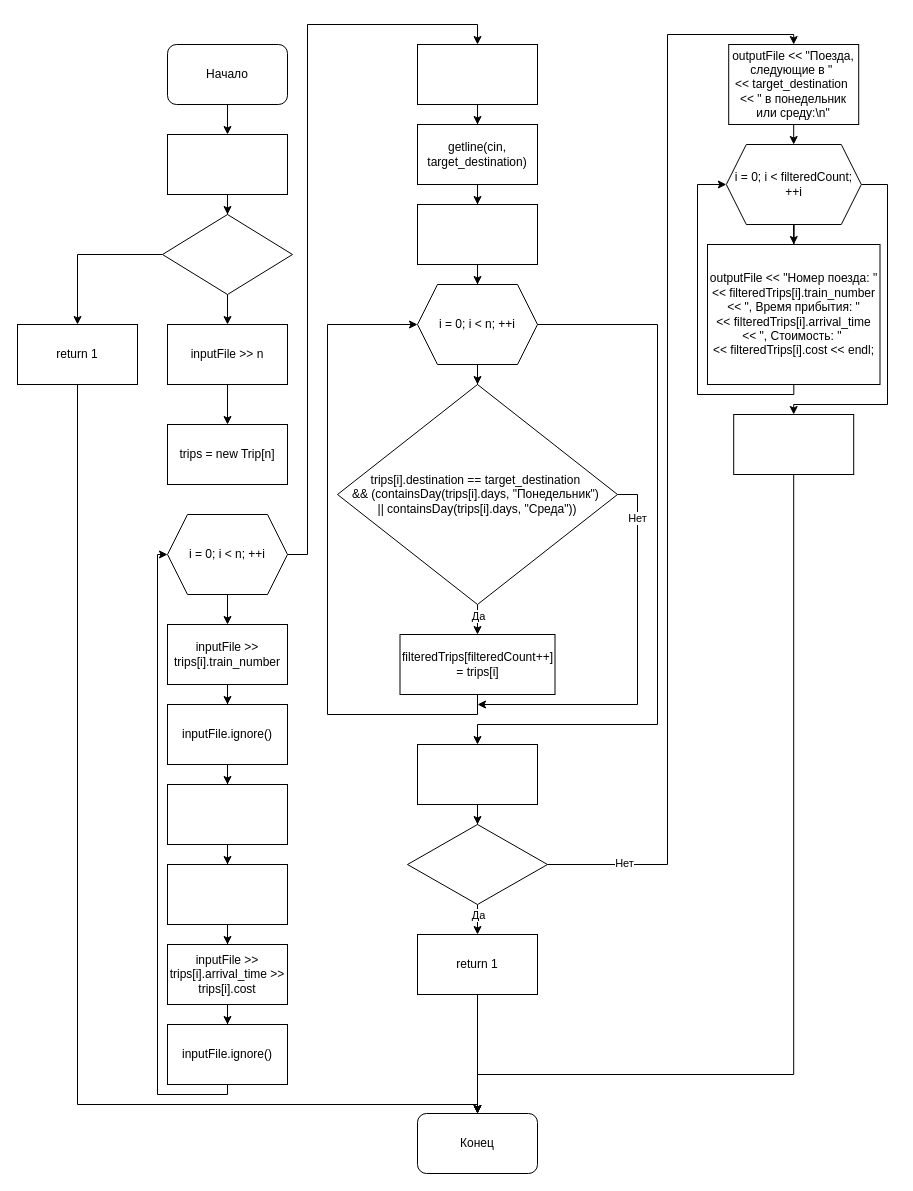
Image size: 913x1191. Some labels were removed from this diagram. Here are the shapes that lost their labels. From the top down, the centre of each, then its label:
(477,74): inputFile.close()
(227,164): inputFile("trips.txt")
(227,254): !inputFile.is_open()
(477,234): filteredTrips = new Trip[n]
(793,444): outputFile.close()
(477,774): outputFile("results.txt")
(227,814): getline(inputFile, trips[i].destination)
(477,864): !outputFile.is_open()
(227,894): getline(inputFile, trips[i].days)
